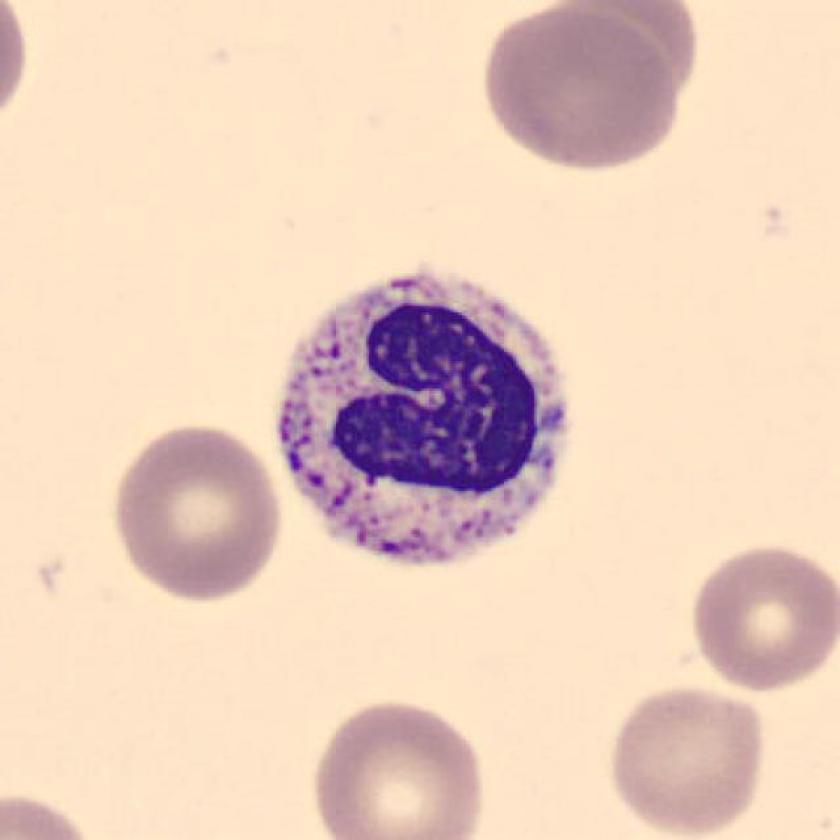neutrophil: (277, 278, 569, 565)
